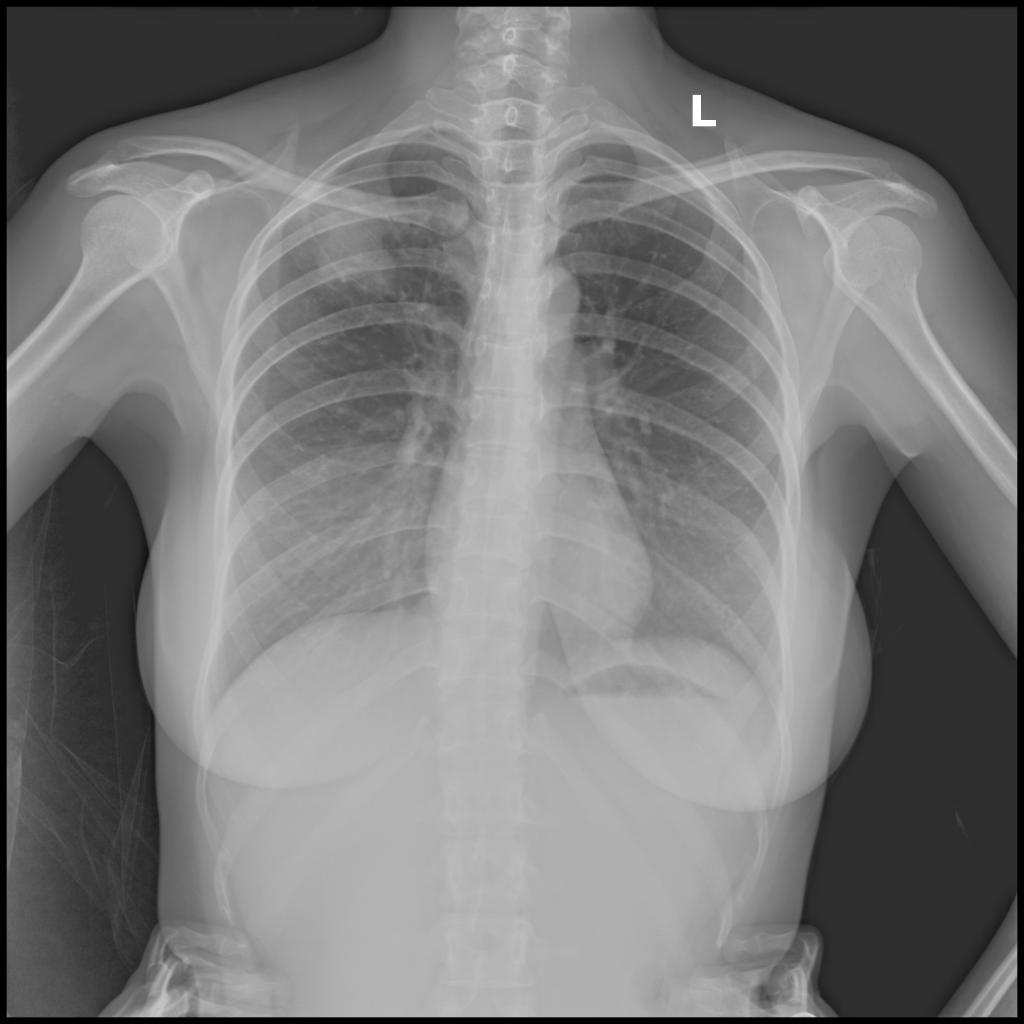Nodule: (312, 190, 400, 300)
